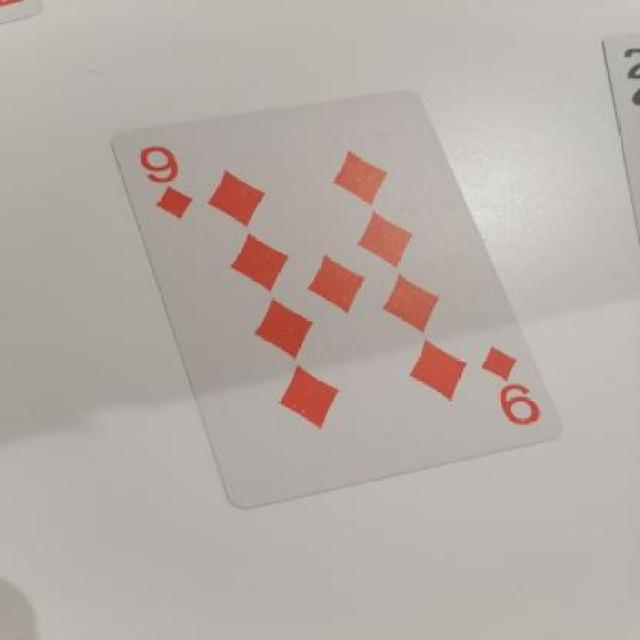9D: (462, 335, 563, 430), (132, 141, 208, 222)
